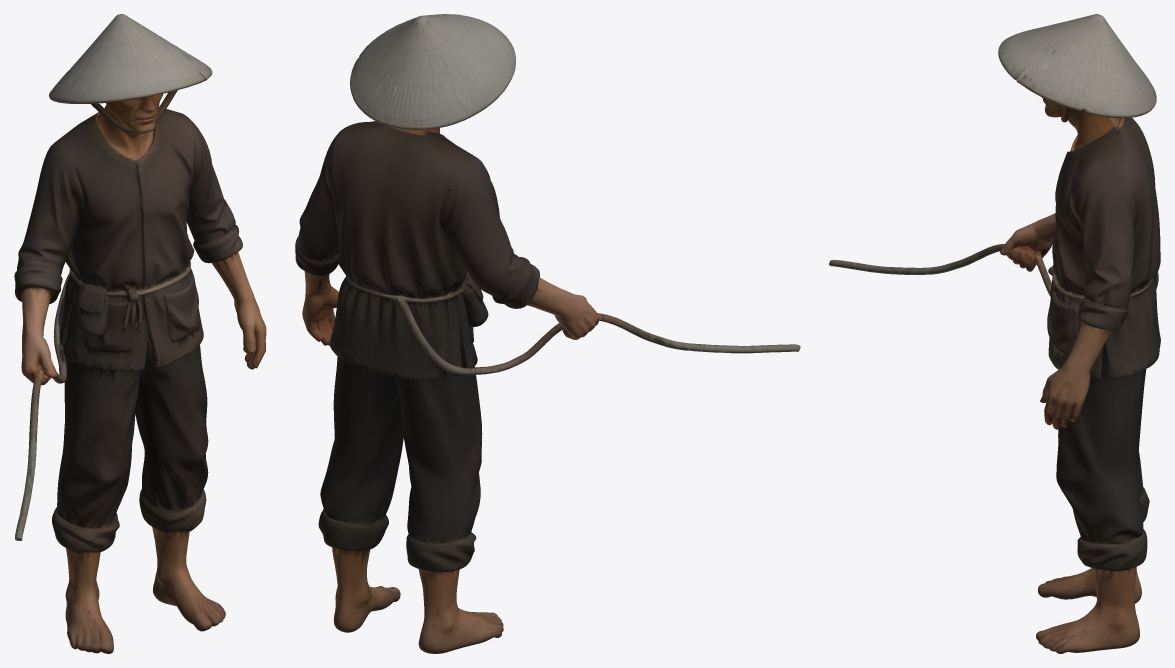
The model's file is nguoidatrau.fbx.
The picture shows the model from 3 angles, left to right: view 1: azimuth 30°, elevation 25°; view 2: azimuth 150°, elevation 25°; view 3: azimuth 270°, elevation 25°; orthographic projection. The views are drawn at different scales.
Visible parts, largest first — view 1: node_0; view 2: node_0; view 3: node_0.
Part boxes in pixels (x1,y1,x2,y2): node_0: [14, 14, 266, 653]; node_0: [295, 14, 800, 653]; node_0: [829, 14, 1160, 653].
Size of the model in its own units: 65.62 by 104 by 52.07.
Materials: 1 (1 with a texture image).
